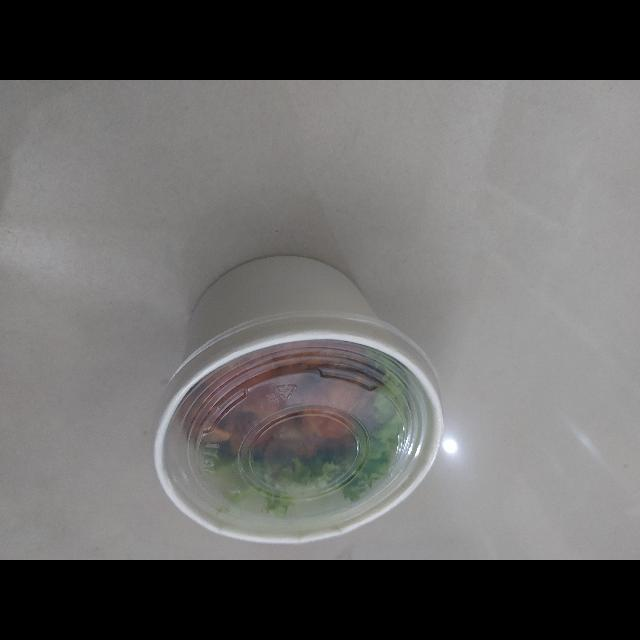rice-bowl: (135, 237, 465, 560)
